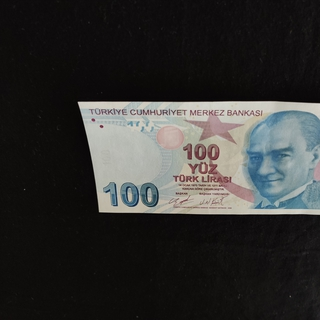100TLFront: (76, 100, 320, 216)
